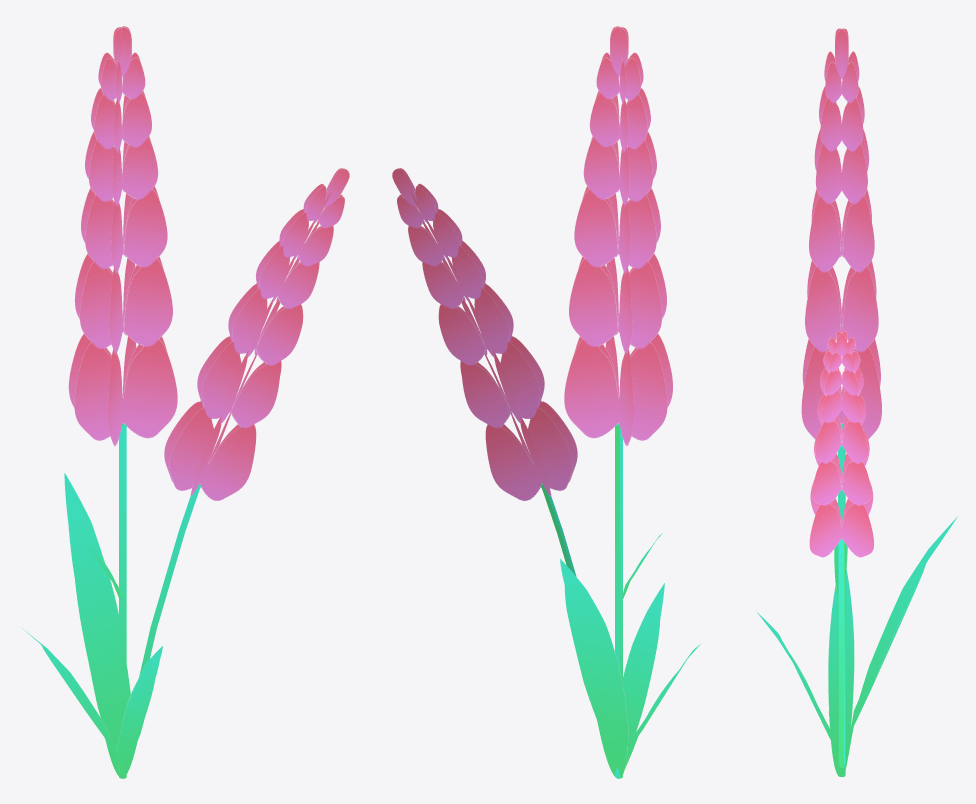
Rendered from Flowers_n03_03.fbx.
3 views of the same model, side by side, from view 1: azimuth 30°, elevation 25°; view 2: azimuth 150°, elevation 25°; view 3: azimuth 270°, elevation 25° (orthographic).
Visible parts, largest first — view 1: polySurface448; view 2: polySurface448; view 3: polySurface448.
Part boxes in pixels (x1,y1,x2,y2): polySurface448: (21,26,349,778); polySurface448: (392,26,700,778); polySurface448: (757,28,957,776).
Size of the model in its own units: 40.8 by 89.24 by 21.86.
1 material, 1 textured.
